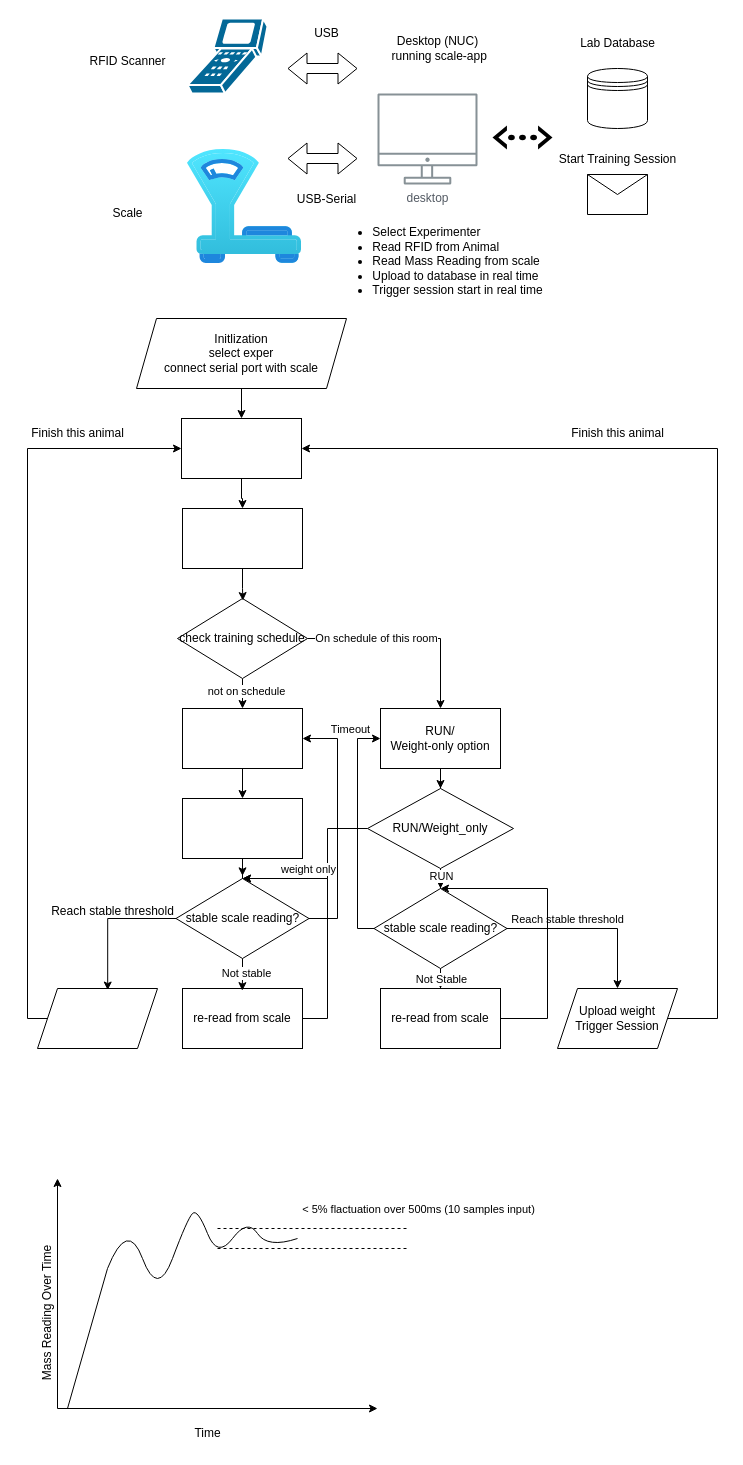
Some shapes in this 743 by 1465 pixel diagram are drawn without their labels. The shapes that lost their labels are listed below. From the top down, each one's centre as x and y in pixels, then its label:
At point 241,448: "Idle".
At point 242,538: "RFID scanner input".
At point 242,738: "Weight-Only Option".
At point 242,828: "User hit Weight Only".
At point 97,1018: "Upload weight".
